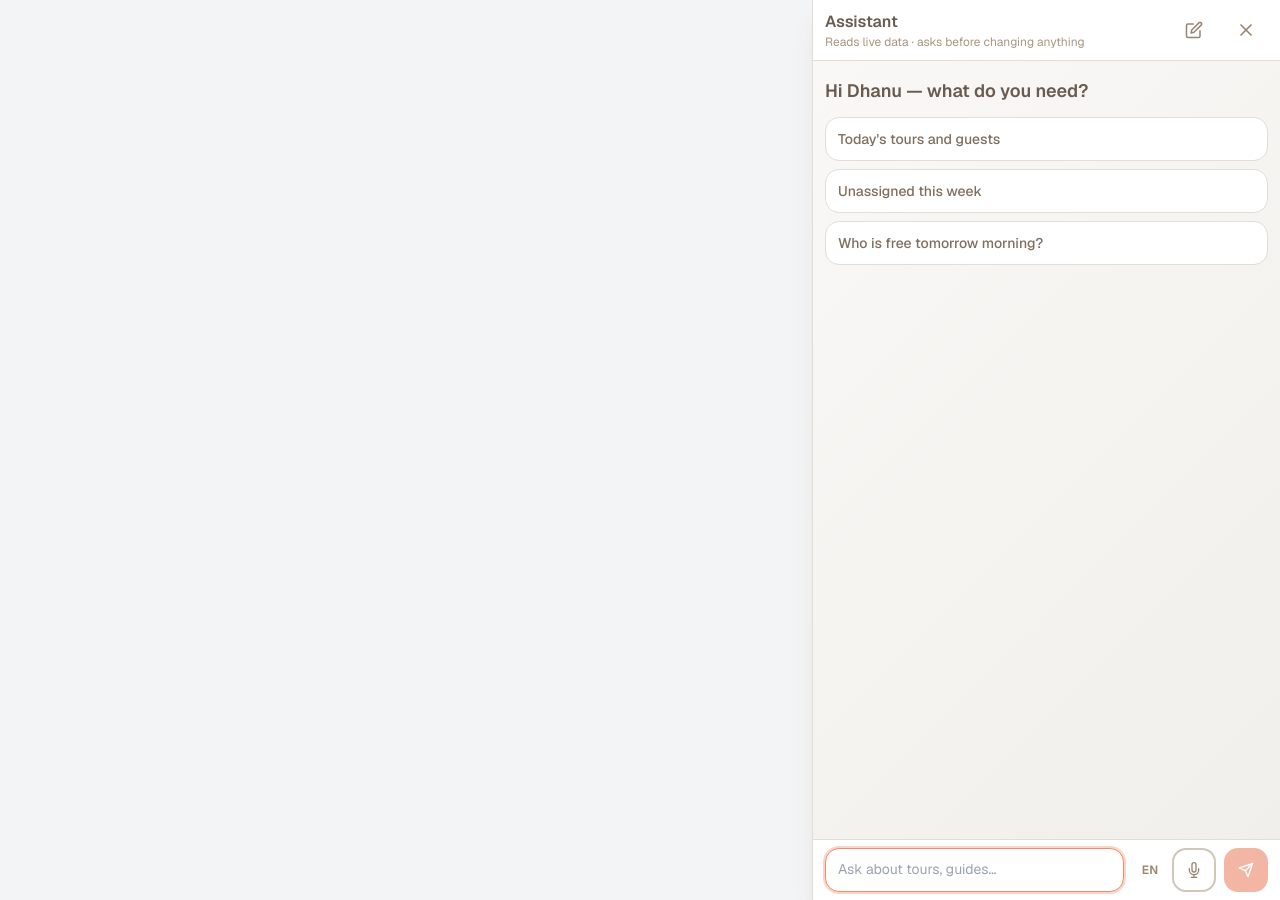
Test case: VoiceInput in the chat (step 7.6) › a second tap stops listening
The image size is (1280, 900).
Click the button with test id "voice-mic" at (1194, 870), box [1172,848,1216,892]
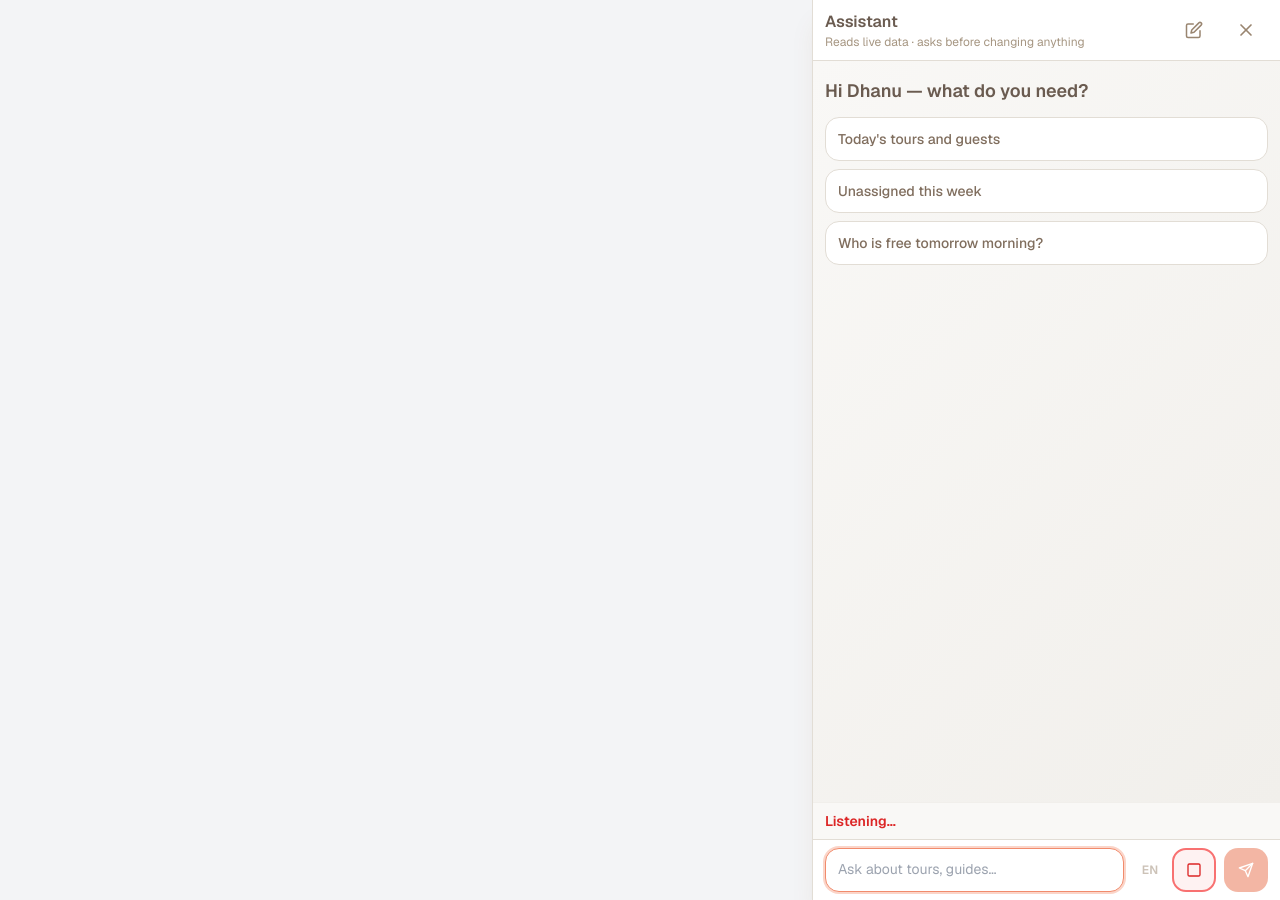
Expected: the button named "Stop listening" is shown
Click the button with test id "voice-mic" at (1194, 870), box [1172,848,1216,892]
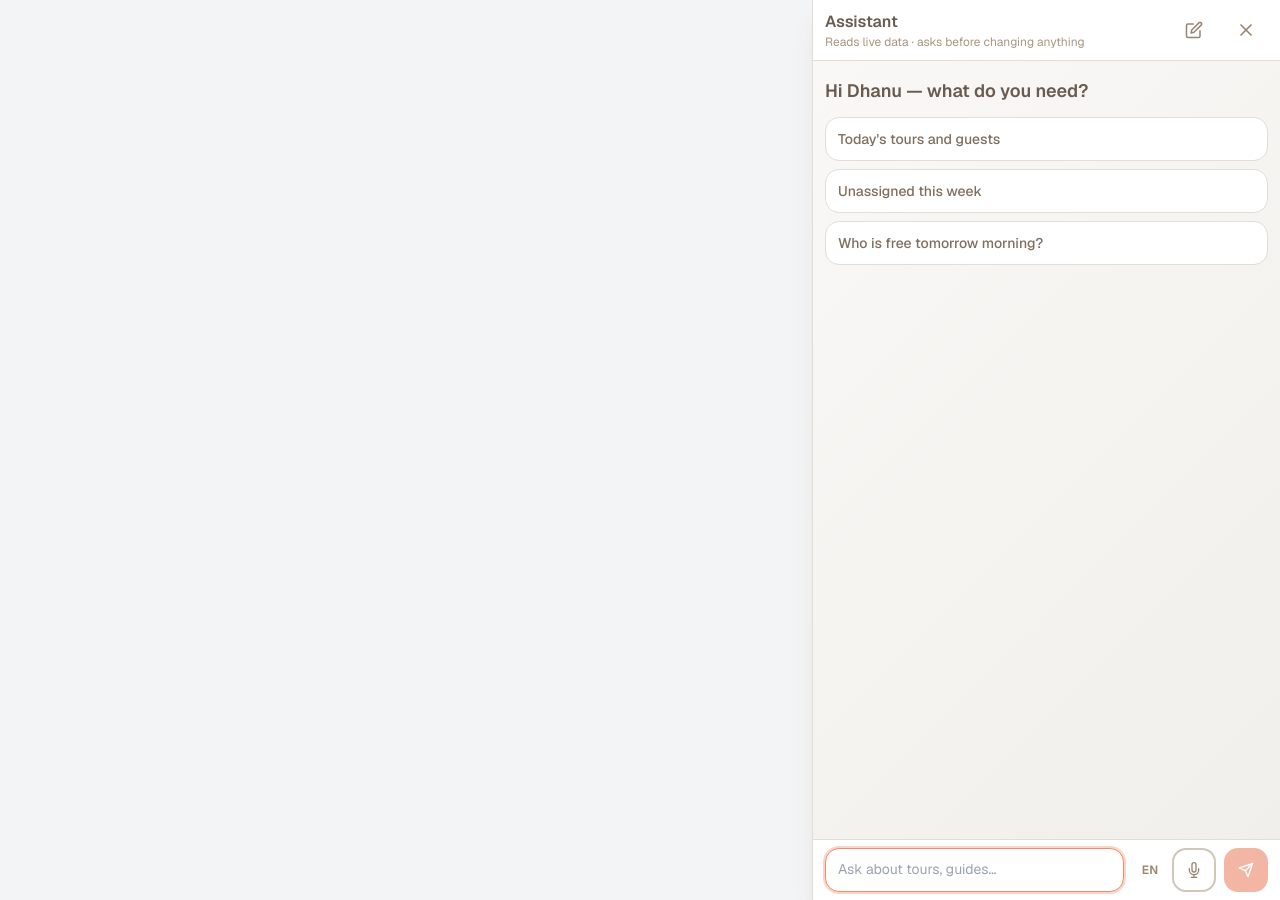
Expected: the button named "Speak" is shown, [1172,848,1216,892]
